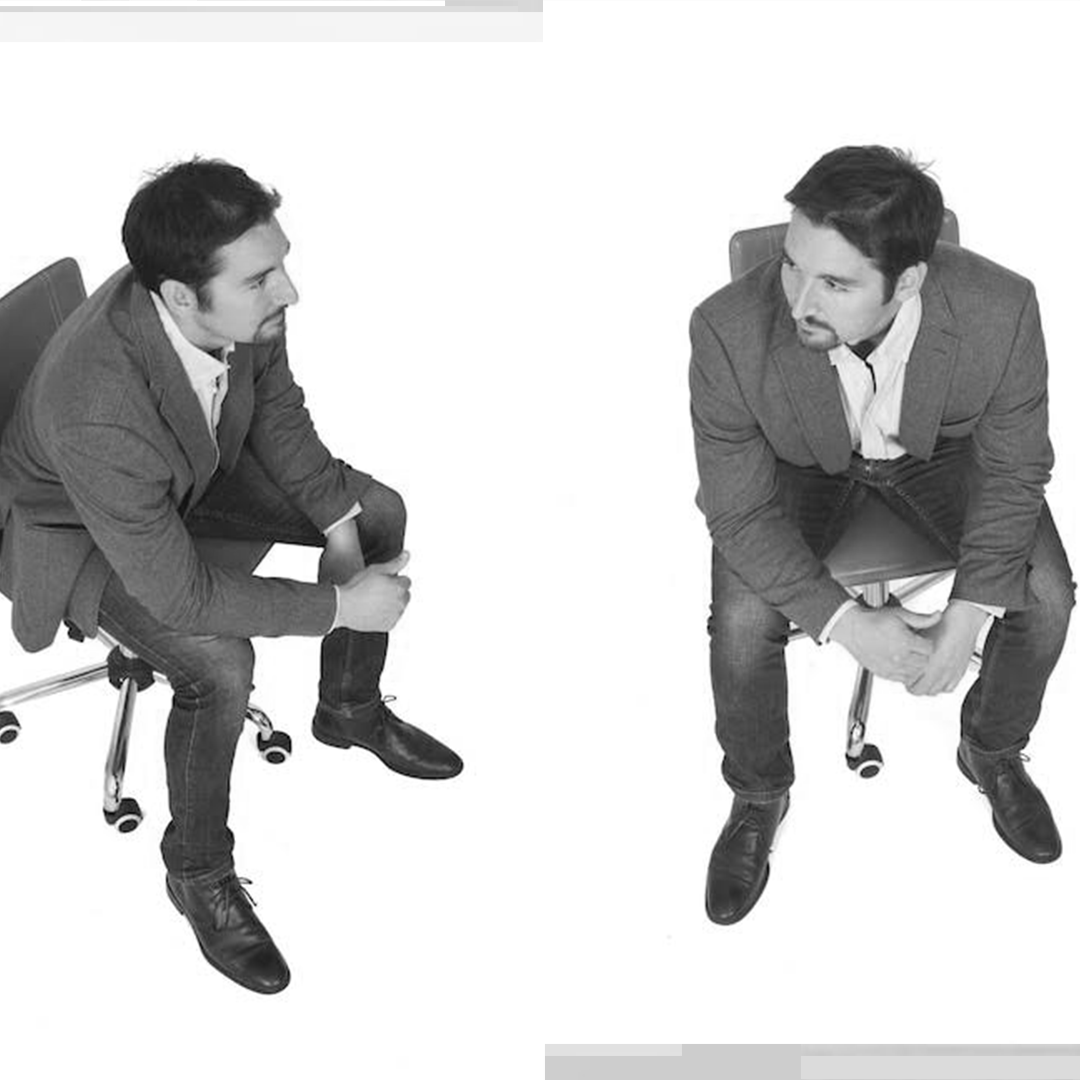distracted: (93, 107, 344, 521), (718, 114, 957, 507)
